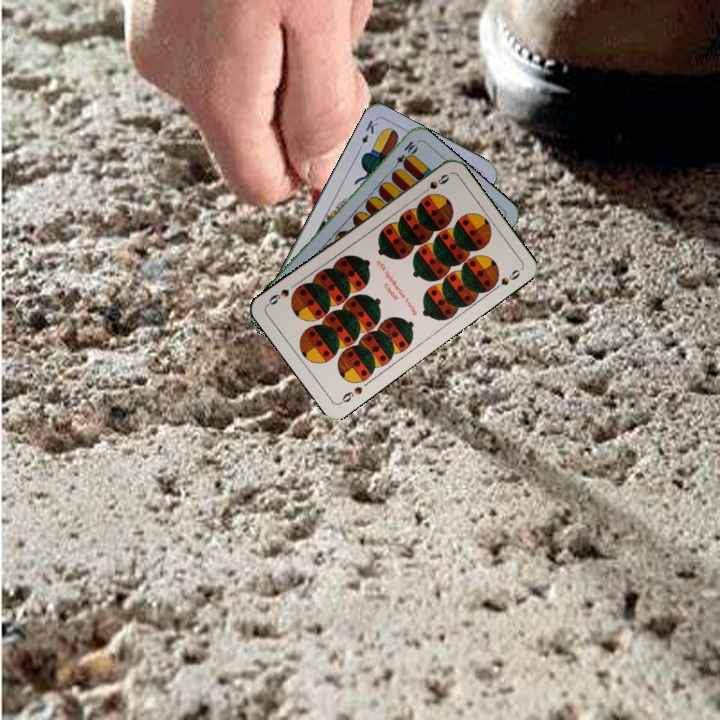E10: (388, 137, 420, 173)
EK: (354, 116, 381, 154)
S9: (416, 170, 452, 198), (336, 382, 365, 407)
